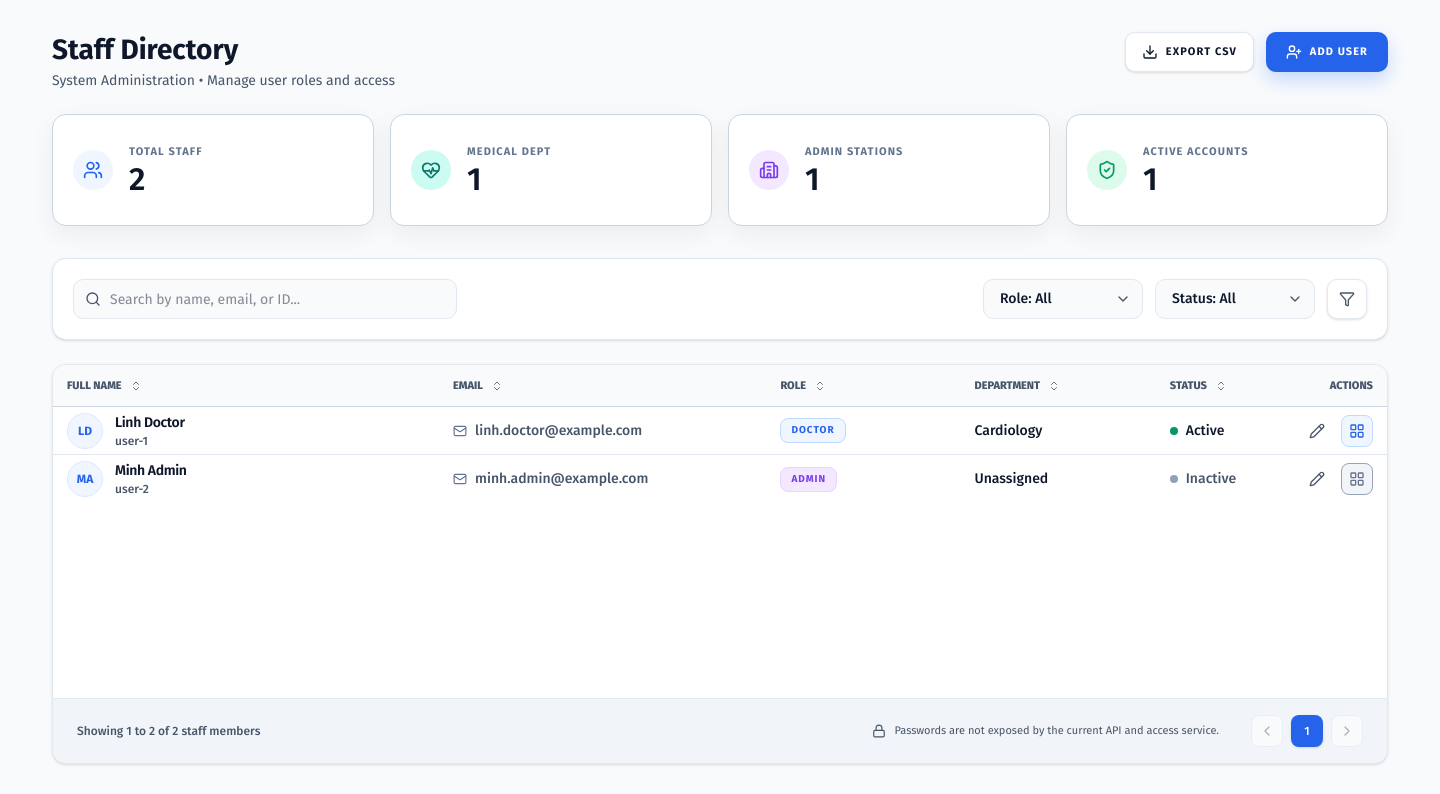
Scenario: AdminUsersPage › creates a user with the backend request shape
Check: the text "Linh Doctor" is shown, box [115,412,185,432]
Click the button "Add User" at (1327, 52), box [1266,32,1388,72]
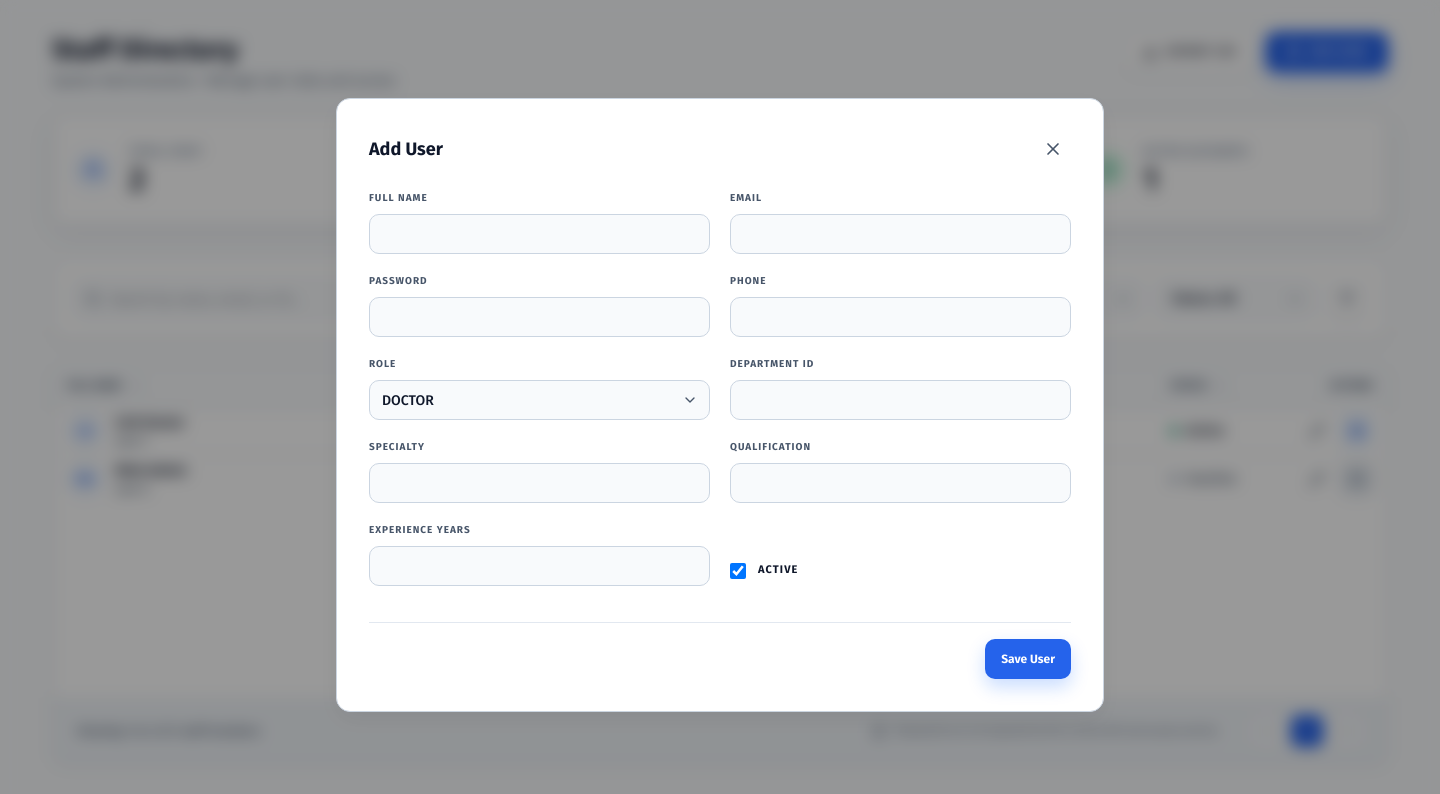
Type "New Doctor" into the field named "Full Name" at (540, 234), box [369,214,710,254]
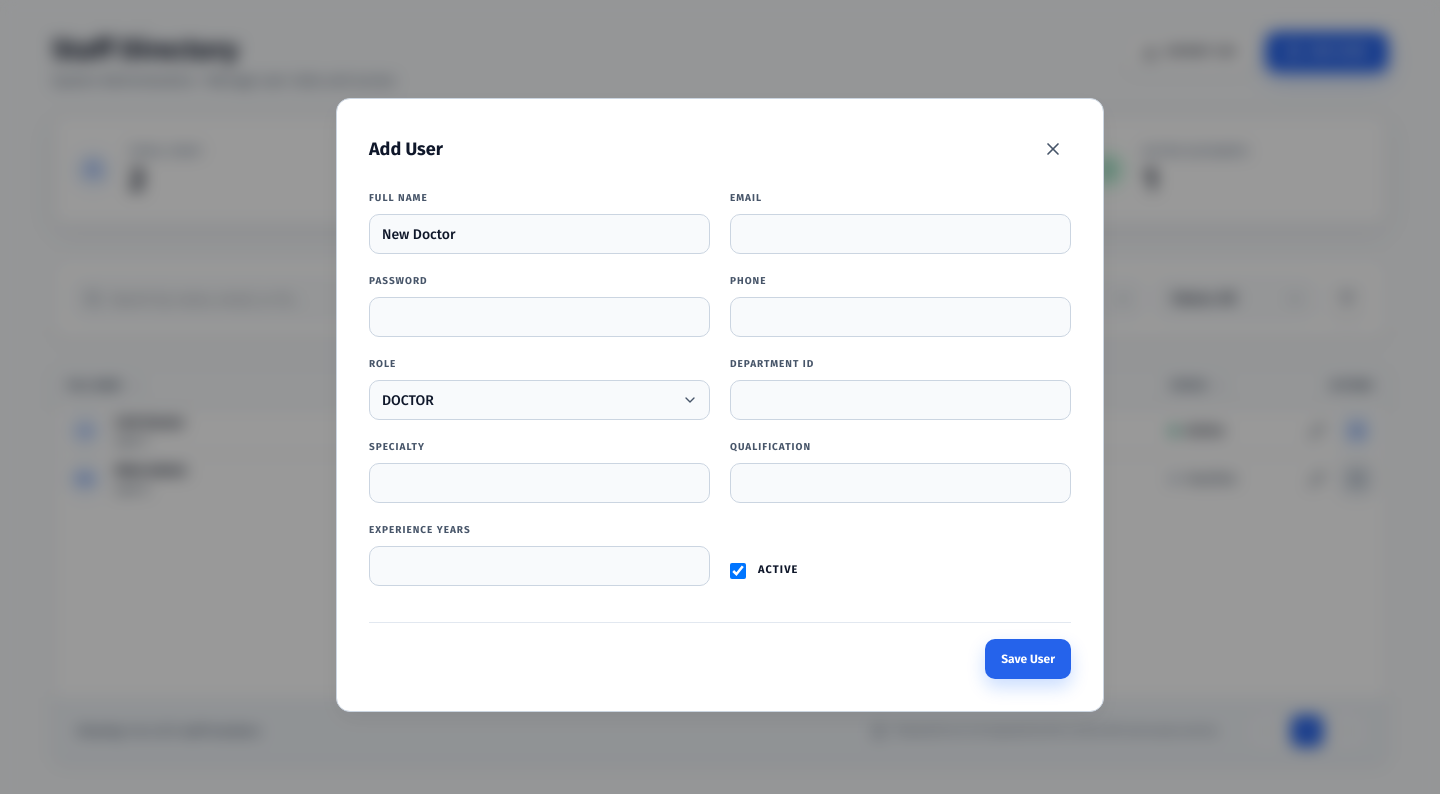
Type "new.doctor@example.com" into the field named "Email" at (900, 234), box [730,214,1071,254]
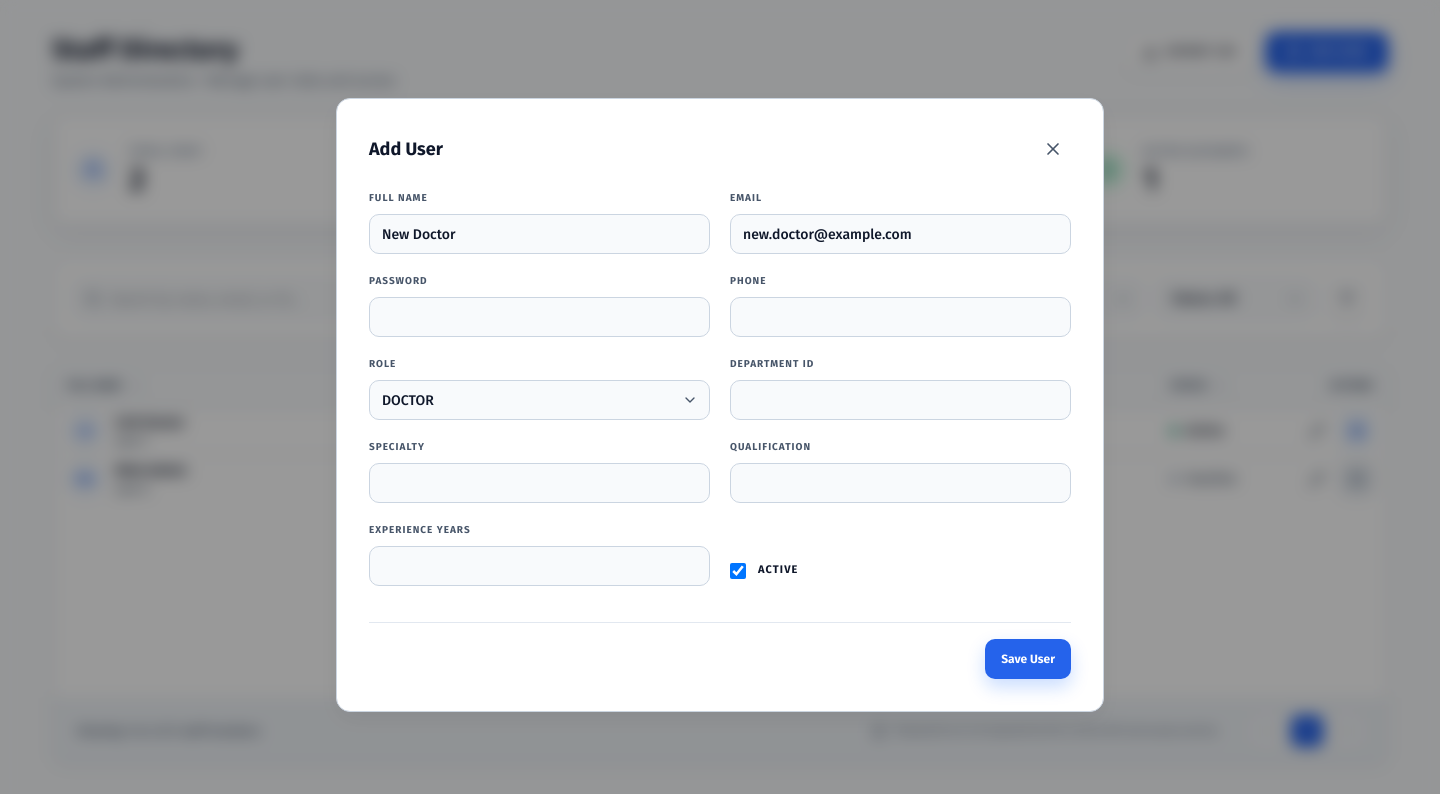
Type "password123" into the password field named "Password" at (540, 317), box [369,297,710,337]
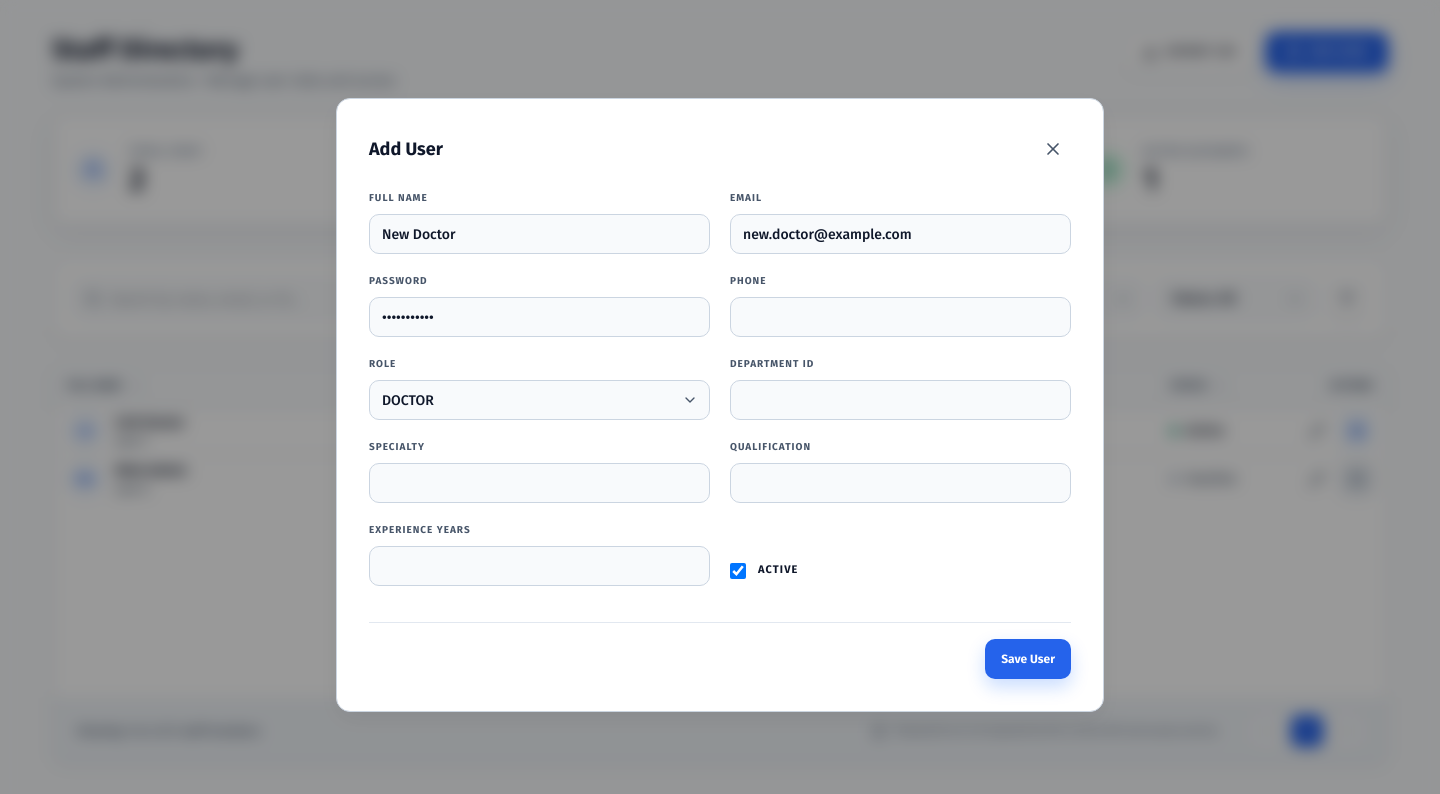
Select "DOCTOR" in the dropdown named "Role" at (540, 400), box [369,380,710,420]
Type "5" into the number field named "Experience Years" at (540, 566), box [369,546,710,586]
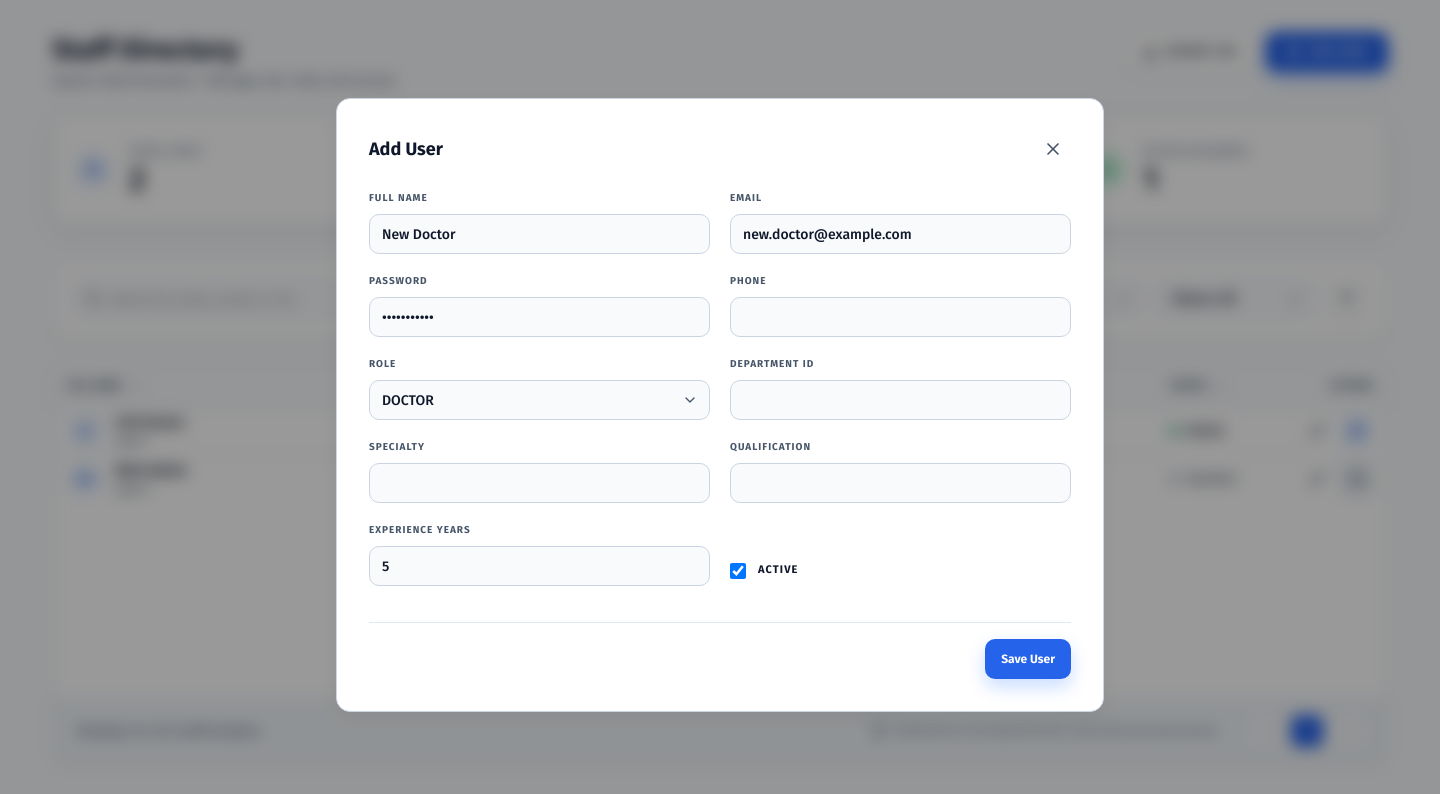
Click the button "Save User" at (1028, 659), box [985,639,1071,679]
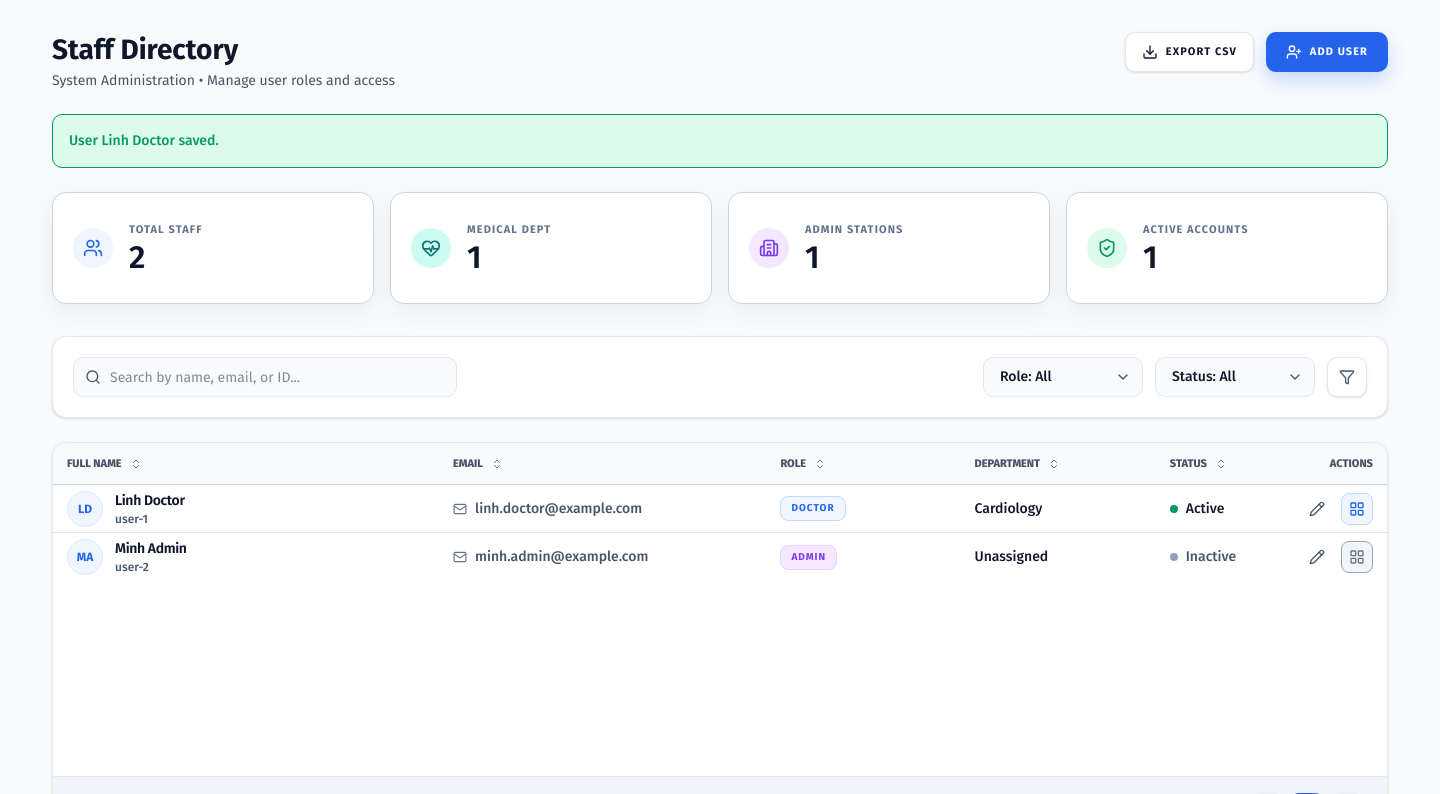
Check: the message shows "saved", box [69,132,219,149]
